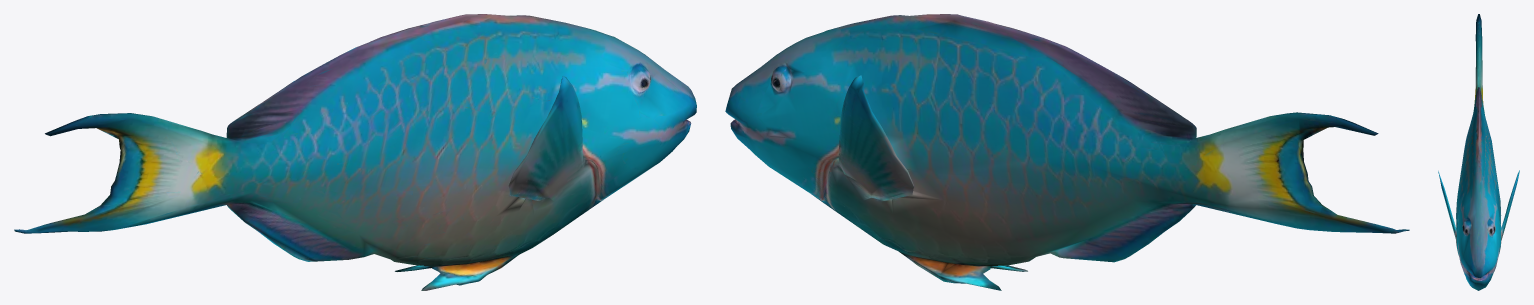
Rendered from parrot.glb.
The picture shows the model from 3 angles, left to right: view 1: azimuth 30°, elevation 25°; view 2: azimuth 150°, elevation 25°; view 3: azimuth 270°, elevation 25°; orthographic projection. The views are drawn at different scales.
Parts seen in each view (by area): view 1: Object_4; view 2: Object_4; view 3: Object_4.
Boxes of the visible parts, x1,y1,x2,y2 form: Object_4: (14, 14, 696, 290); Object_4: (725, 14, 1409, 290); Object_4: (1438, 14, 1519, 290).
Size of the model in its own units: 1.2 by 0.4366 by 0.2137.
Materials: 1 (1 with a texture image).
